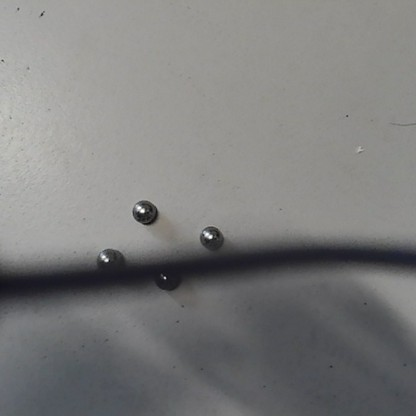ironball: (199, 224, 222, 250), (94, 248, 123, 267), (155, 270, 180, 291), (131, 200, 154, 222)
